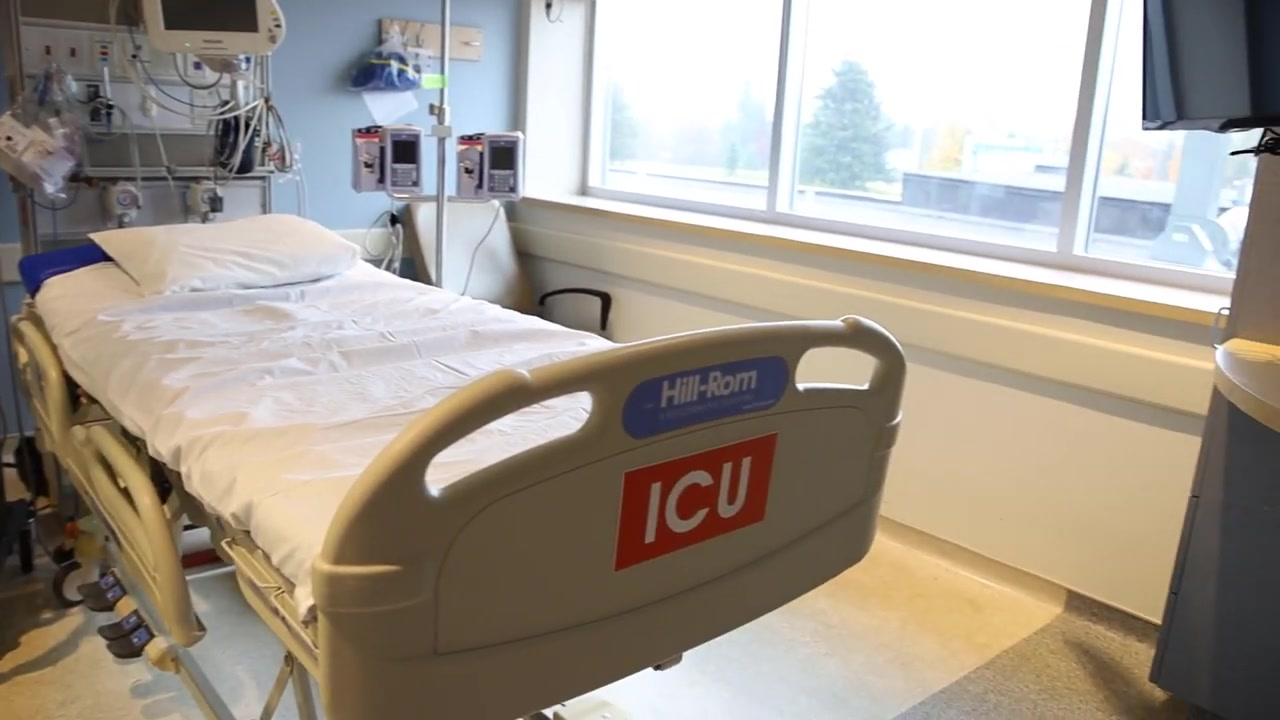TV: (1141, 1, 1280, 134)
bedrail: (66, 421, 208, 649), (8, 314, 69, 455)
bedside_monitor: (160, 1, 265, 50)
chair: (402, 197, 615, 340)
countertop: (1211, 336, 1280, 437)
foot_board: (310, 315, 909, 720)
hallway_assist_bar: (509, 221, 1217, 420)
handle: (1210, 306, 1234, 352)
hospital_bed: (8, 212, 911, 720)
infusion_pump: (350, 122, 425, 202), (453, 131, 527, 202)
iv_pole: (350, 1, 527, 286)
